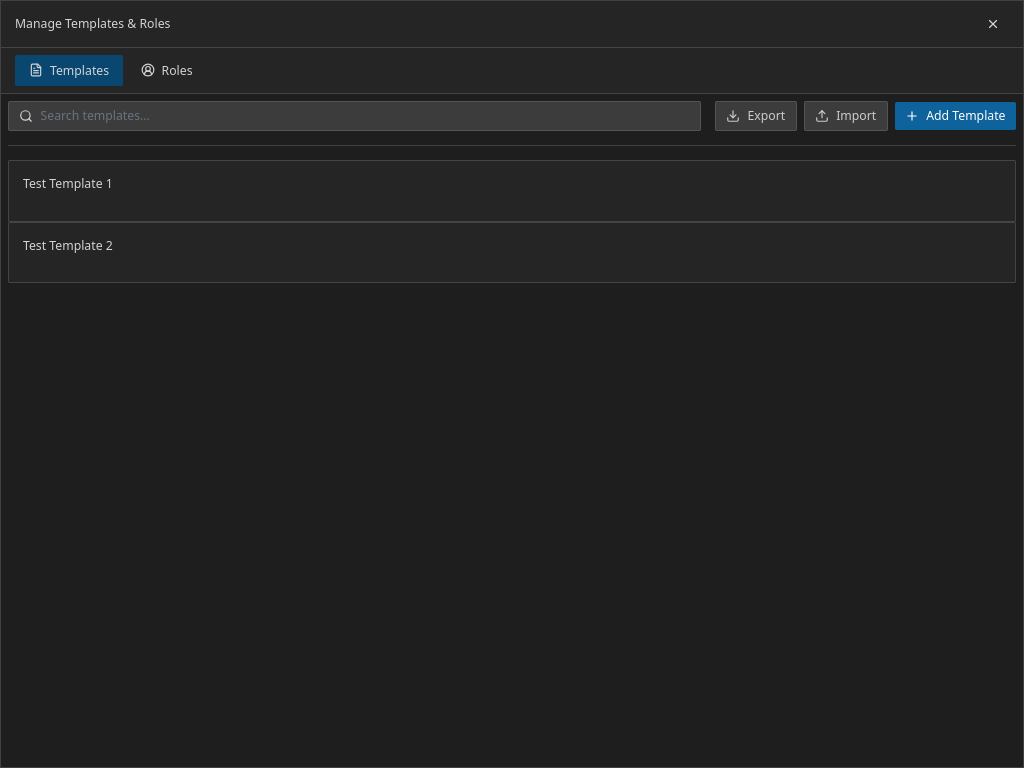
Test: ManageModal › filters roles based on search query
Note: Switch to roles tab
Click the button "Roles".
click(167, 70)  # box [127,54,207,86]
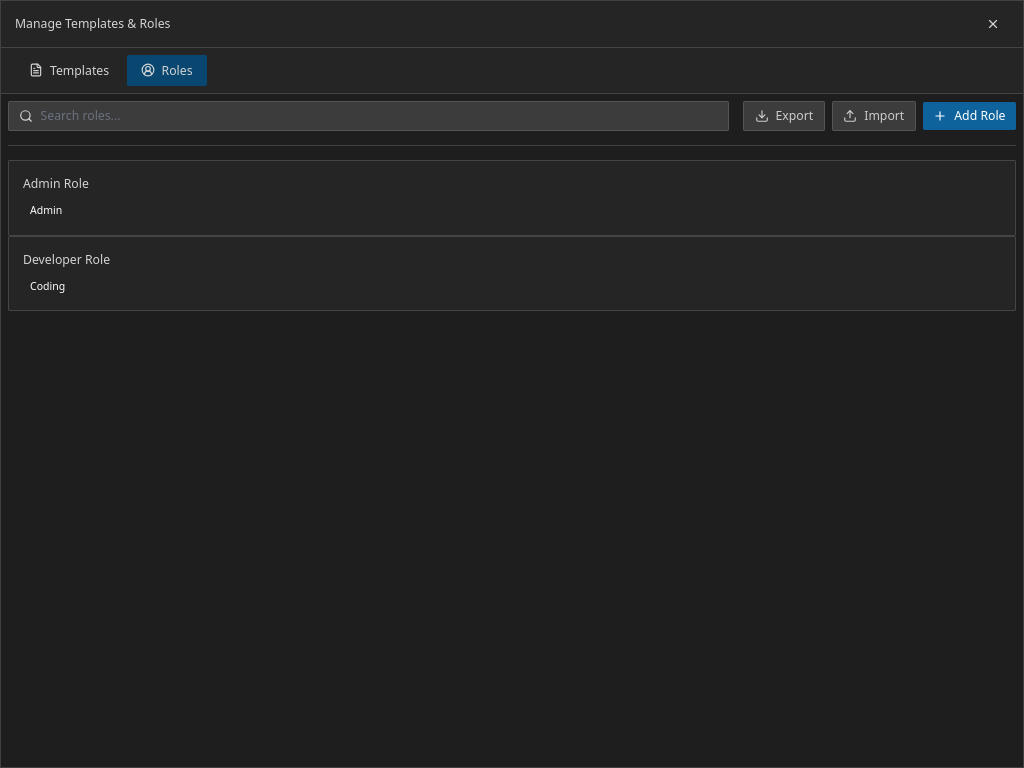
Note: Type in search box
Type "Admin" into the field with placeholder "Search roles...".
click(368, 116); type("Admin")  # box [8,101,729,131]
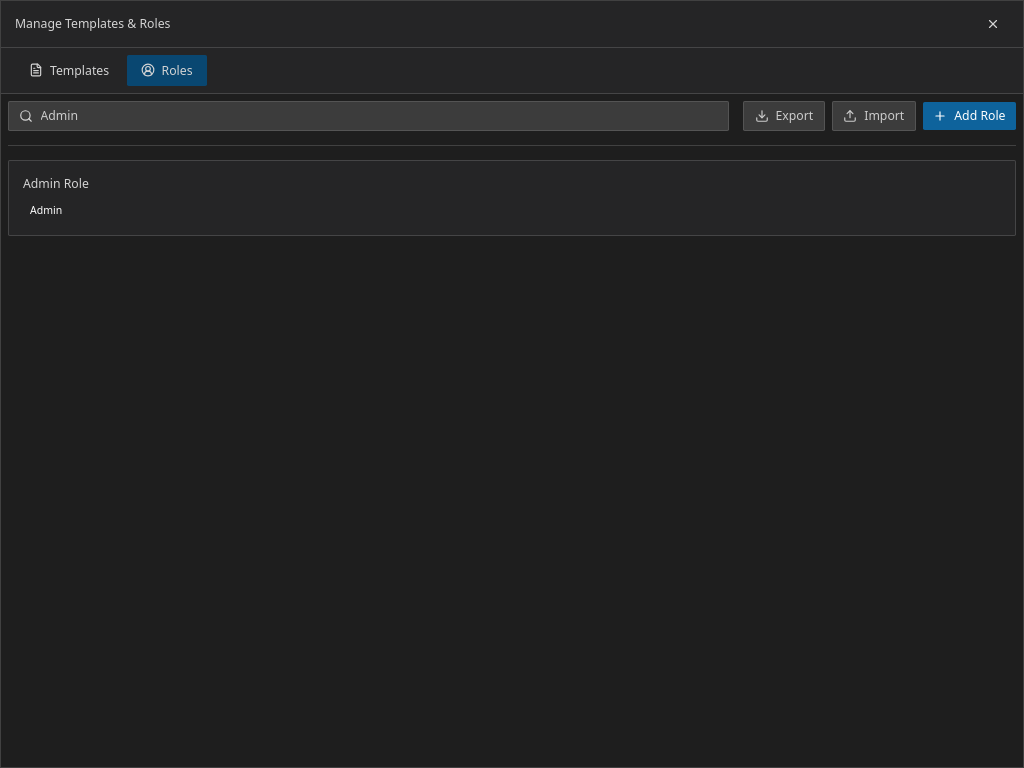
Expected: the heading "Admin Role" is shown, [23,175,89,192]
Expected: the heading "Developer Role" is gone
